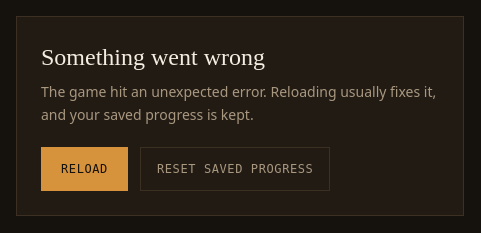
it: ErrorBoundary › requires a second click before erasing saved progress
This screenshot has width=481, height=233.
What coordinates should you click on to do the following:
click the button "Reset saved progress"
I would click on:
 (235, 169)
Its box is [140, 147, 330, 191].
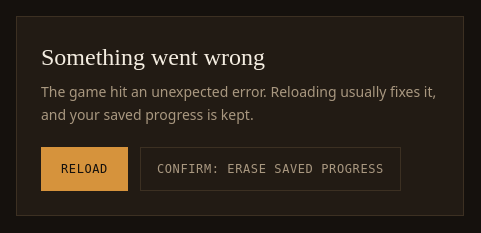
Expected: the button "Confirm: erase saved progress" is shown, [140, 147, 401, 191]
